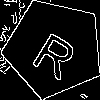R: (29, 23, 85, 81)
